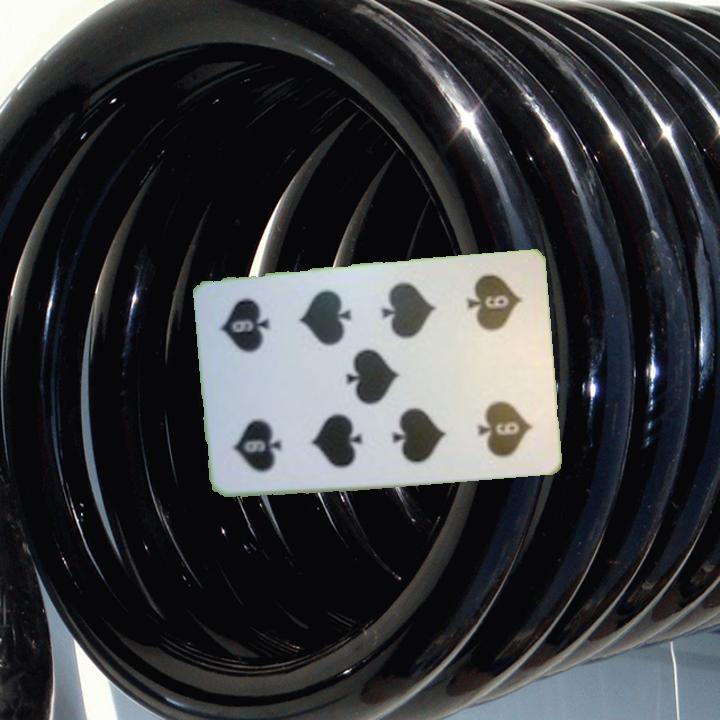s_9.png: (216, 378, 310, 484), (444, 265, 537, 371)
